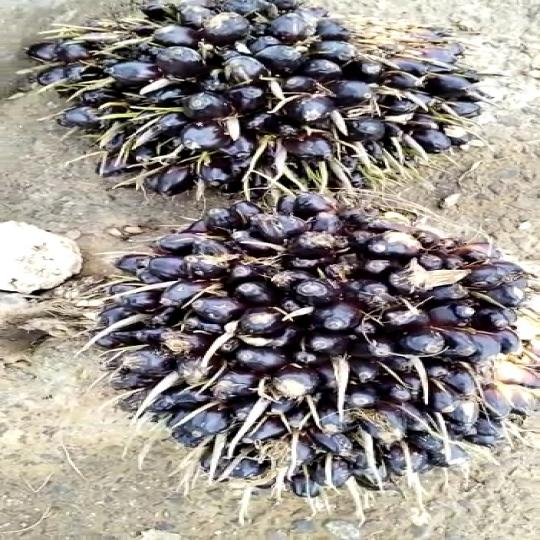mentah: (82, 193, 540, 493), (22, 0, 509, 208)
